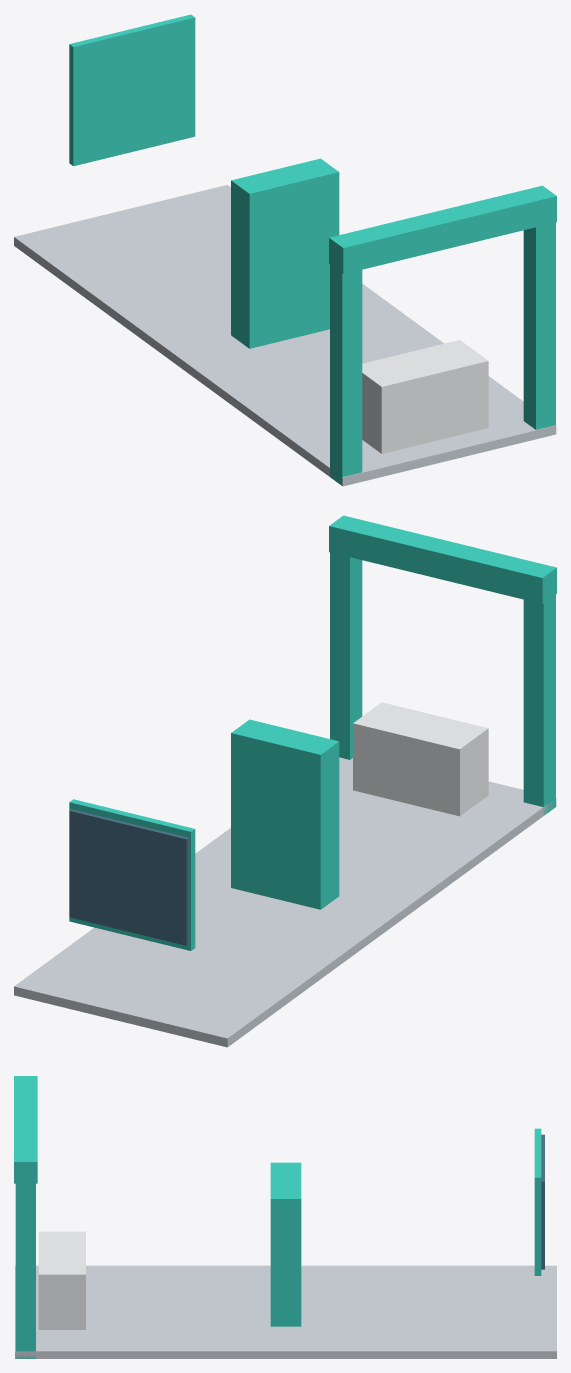
3 renders of one model, top to bottom at view 1: azimuth 30°, elevation 25°; view 2: azimuth 150°, elevation 25°; view 3: azimuth 270°, elevation 25°, orthographic. The views are drawn at different scales.
Parts seen in each view (by area): view 1: Exhibition Booth Concept; view 2: Exhibition Booth Concept; view 3: Exhibition Booth Concept.
Boxes of the visible parts, box(x1,y1,x2,y2) form: Exhibition Booth Concept: box(14, 14, 556, 486); Exhibition Booth Concept: box(14, 515, 556, 1047); Exhibition Booth Concept: box(14, 1076, 556, 1358).
Size of the model in its own units: 3 by 3.2 by 8.01.
